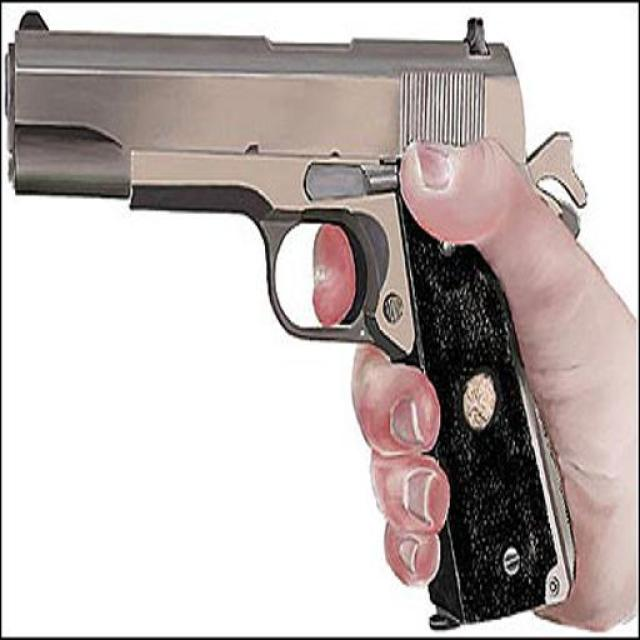pistol: (8, 8, 589, 624)
